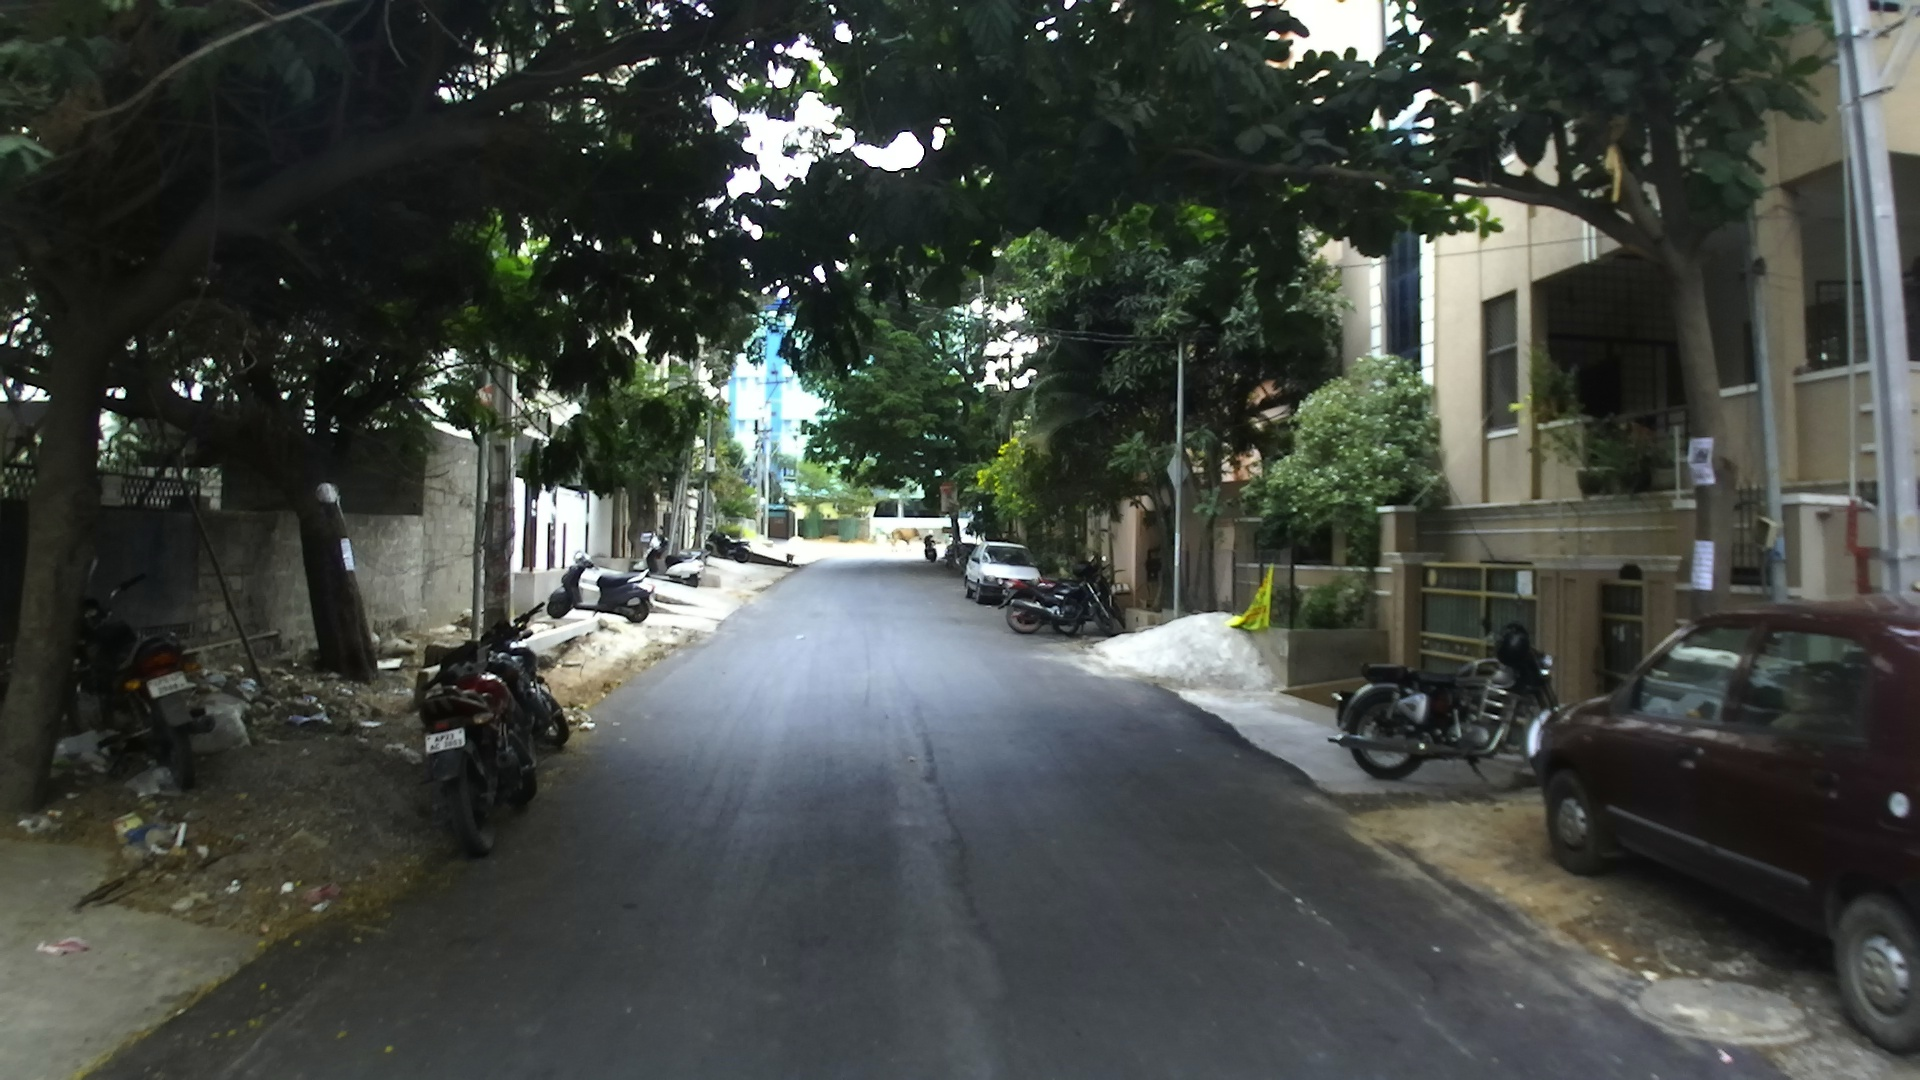vehicle: (1535, 591, 1919, 1058), (411, 621, 568, 858), (1335, 650, 1557, 785), (541, 556, 655, 625), (1004, 574, 1112, 637), (961, 543, 1042, 603)
